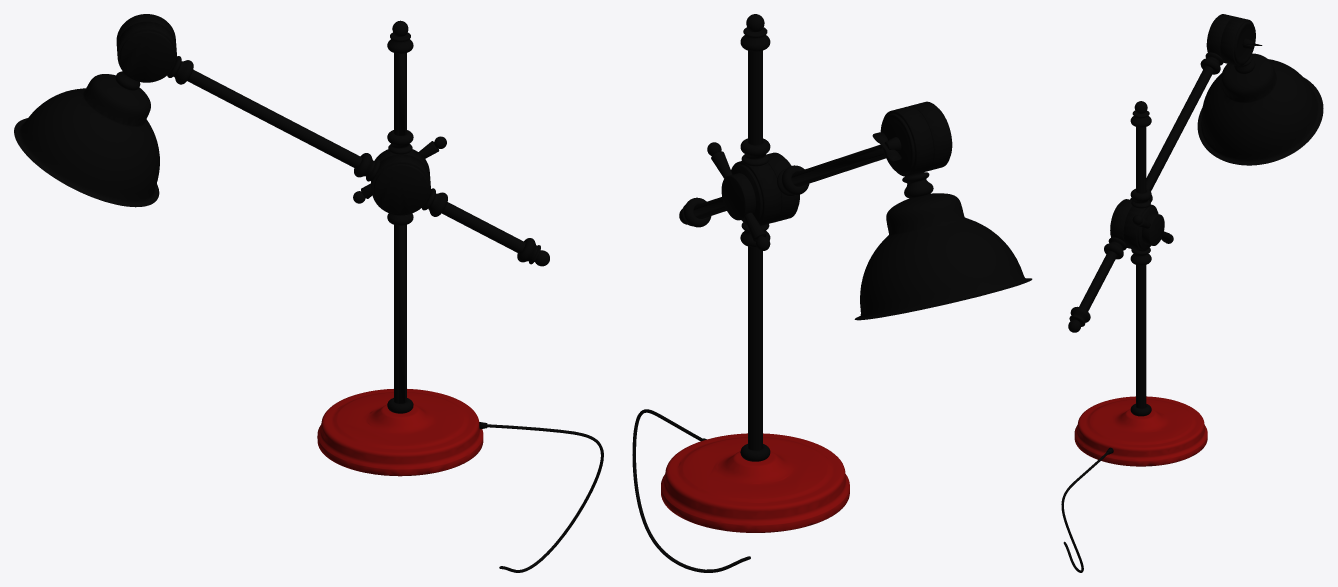
The model's file is TableLamp.obj.
The picture shows the model from 3 angles, left to right: view 1: azimuth 30°, elevation 25°; view 2: azimuth 150°, elevation 25°; view 3: azimuth 270°, elevation 25°; orthographic projection. The views are drawn at different scales.
Parts seen in each view (by area): view 1: pTorus4_Mesh.001; view 2: pTorus4_Mesh.001; view 3: pTorus4_Mesh.001.
Part boxes in pixels (x1,y1,x2,y2): pTorus4_Mesh.001: (14,14,603,572); pTorus4_Mesh.001: (632,14,1032,572); pTorus4_Mesh.001: (1061,14,1323,572).
Bounding box in the file's own units: 25.38 × 28.93 × 15.64.
